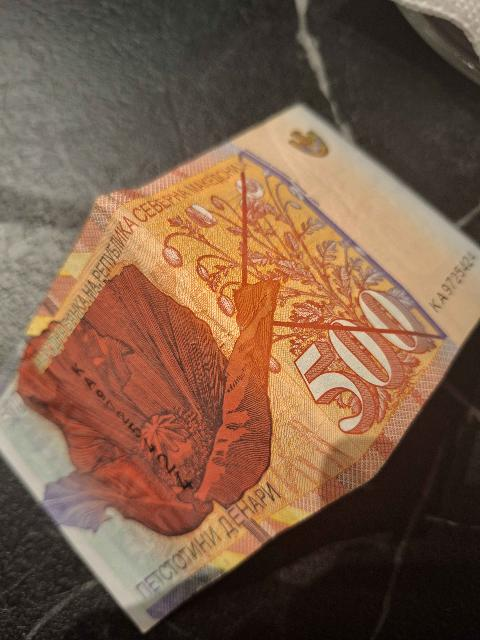500_note: (0, 107, 479, 630)
